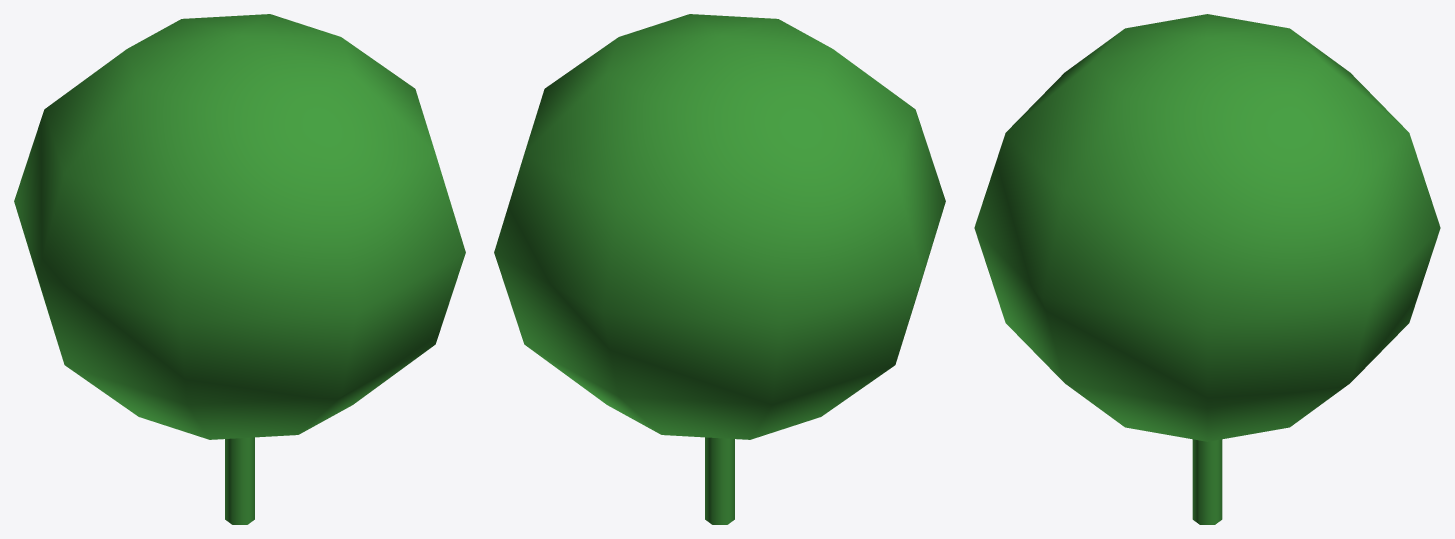
Rendered from plant-lod-blob--s.glb.
The picture shows the model from 3 angles, left to right: view 1: azimuth 30°, elevation 25°; view 2: azimuth 150°, elevation 25°; view 3: azimuth 270°, elevation 25°; orthographic projection.
Parts seen in each view (by area): view 1: blob, stem; view 2: blob, stem; view 3: blob, stem.
Boxes of the visible parts, x1,y1,x2,y2 form: blob: (14, 14, 465, 439); stem: (225, 437, 254, 524); blob: (494, 14, 945, 439); stem: (705, 437, 734, 524); blob: (974, 14, 1440, 441); stem: (1192, 439, 1222, 524).
Size of the model in its own units: 0.25 by 0.285 by 0.25.
